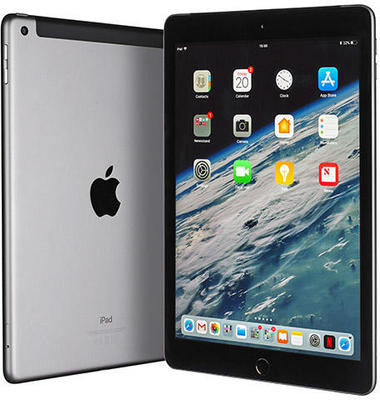apple: (81, 157, 130, 230)
